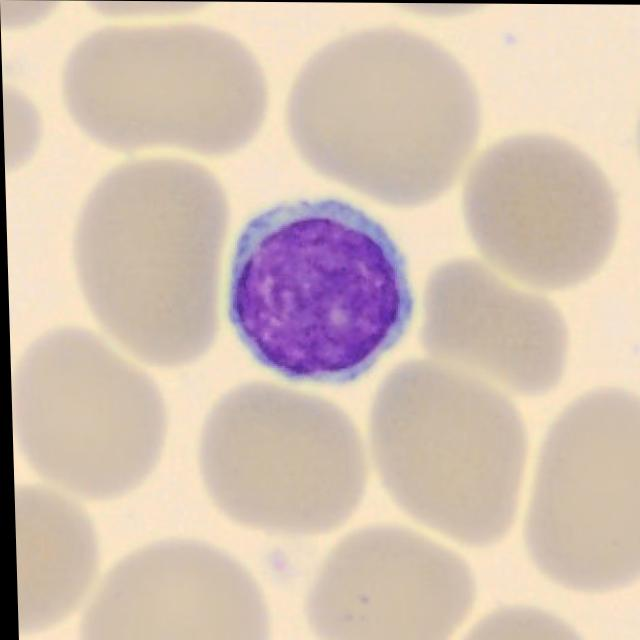Linfocito atipico: (223, 195, 411, 381)
